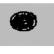correct: (8, 10, 38, 32)
